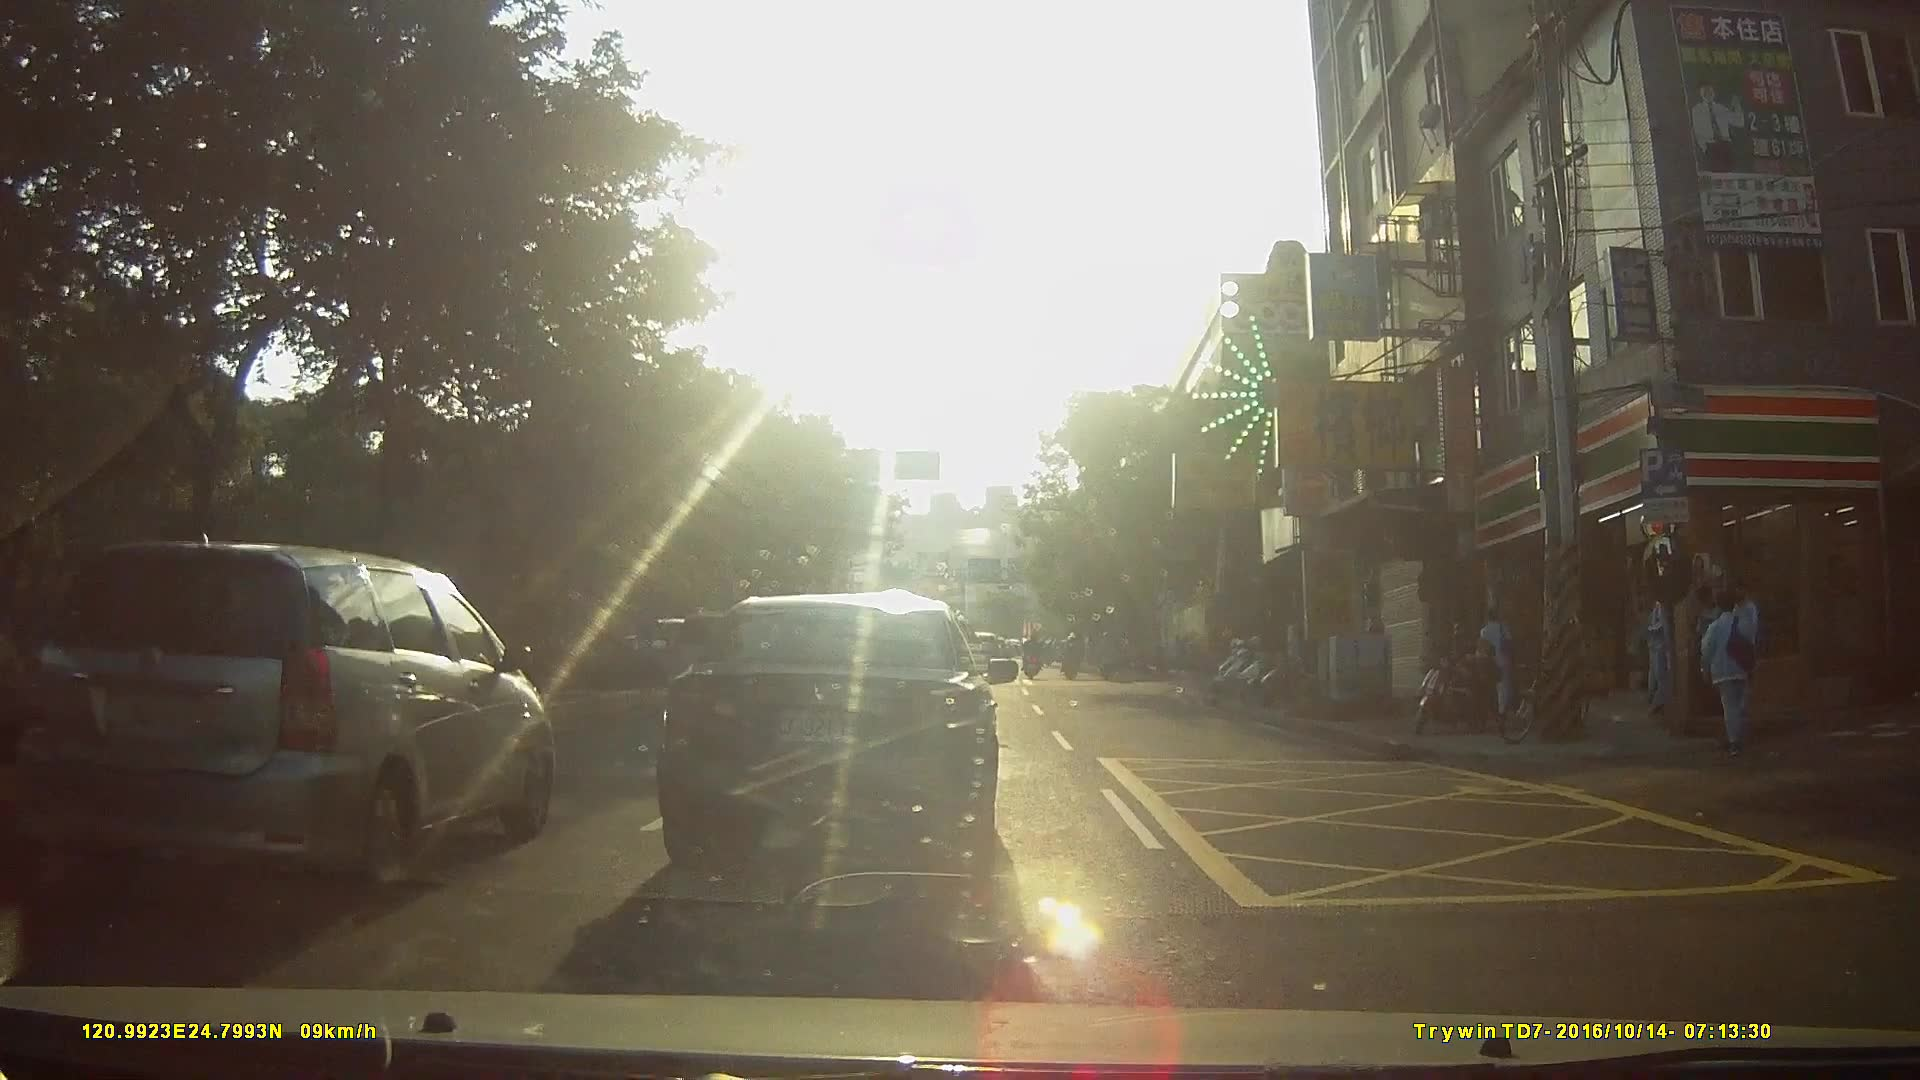pedestrian: (1705, 595, 1765, 760), (1475, 608, 1523, 716), (1697, 574, 1733, 712), (1630, 585, 1666, 716)
rider: (1062, 626, 1088, 686), (1095, 627, 1120, 687), (1022, 632, 1047, 681)
vehicle: (25, 545, 574, 889), (609, 577, 1029, 873)
